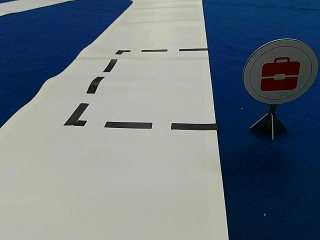company: (244, 38, 316, 102)
